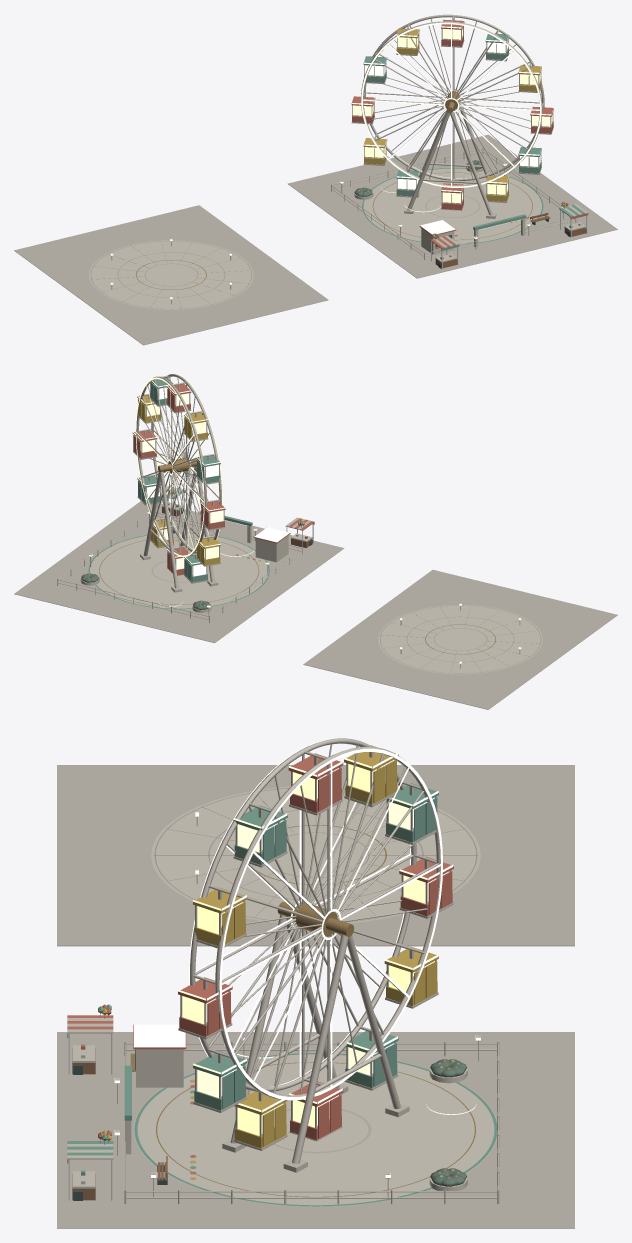
Rendered from world_landmarks.glb.
The picture shows the model from 3 angles, top to bottom: view 1: azimuth 30°, elevation 25°; view 2: azimuth 150°, elevation 25°; view 3: azimuth 270°, elevation 25°; orthographic projection. The views are drawn at different scales.
Parts seen in each view (by area): view 1: Plaza_c2_2, Amusement_c3_2, FerrisRotor, FerrisSupports, BalloonCarts_c3_2, FerrisCabin_11, FerrisCabin_10, FerrisCabin_07, FerrisCabin_04, FerrisCabin_00, FerrisCabin_06, FerrisCabin_09 (+5 smaller); view 2: Plaza_c2_2, Amusement_c3_2, FerrisRotor, FerrisSupports, BalloonCarts_c3_2, FerrisCabin_07, FerrisCabin_06, FerrisCabin_05, FerrisCabin_00, FerrisCabin_04, FerrisCabin_03, FerrisCabin_08 (+1 smaller); view 3: Amusement_c3_2, Plaza_c2_2, FerrisRotor, FerrisSupports, BalloonCarts_c3_2, FerrisCabin_11, FerrisCabin_10, FerrisCabin_00, FerrisCabin_04, FerrisCabin_01, FerrisCabin_06, FerrisCabin_05 (+5 smaller).
Part boxes in pixels (x1=…): Plaza_c2_2: x1=14, y1=205, x2=328, y2=345; Amusement_c3_2: x1=288, y1=134, x2=617, y2=278; FerrisRotor: x1=361, y1=14, x2=544, y2=187; FerrisSupports: x1=404, y1=104, x2=496, y2=218; BalloonCarts_c3_2: x1=430, y1=204, x2=588, y2=269; FerrisCabin_11: x1=518, y1=147, x2=541, y2=174; FerrisCabin_10: x1=486, y1=175, x2=509, y2=202; FerrisCabin_07: x1=363, y1=138, x2=387, y2=165; FerrisCabin_04: x1=396, y1=28, x2=419, y2=55; FerrisCabin_00: x1=530, y1=106, x2=553, y2=134; FerrisCabin_06: x1=351, y1=96, x2=375, y2=124; FerrisCabin_09: x1=441, y1=183, x2=464, y2=210; Plaza_c2_2: x1=303, y1=570, x2=617, y2=709; Amusement_c3_2: x1=14, y1=501, x2=344, y2=642; FerrisRotor: x1=135, y1=374, x2=222, y2=557; FerrisSupports: x1=140, y1=466, x2=218, y2=592; BalloonCarts_c3_2: x1=157, y1=486, x2=314, y2=548; FerrisCabin_07: x1=196, y1=537, x2=220, y2=566; FerrisCabin_06: x1=201, y1=501, x2=225, y2=530; FerrisCabin_05: x1=196, y1=455, x2=220, y2=484; FerrisCabin_00: x1=132, y1=430, x2=157, y2=459; FerrisCabin_04: x1=184, y1=412, x2=208, y2=441; FerrisCabin_03: x1=167, y1=384, x2=191, y2=413; FerrisCabin_08: x1=184, y1=554, x2=208, y2=583; Amusement_c3_2: x1=57, y1=1024, x2=574, y2=1228; Plaza_c2_2: x1=57, y1=765, x2=574, y2=946; FerrisRotor: x1=189, y1=738, x2=442, y2=1100; FerrisSupports: x1=222, y1=914, x2=409, y2=1172; BalloonCarts_c3_2: x1=67, y1=1014, x2=113, y2=1200; FerrisCabin_11: x1=193, y1=1051, x2=247, y2=1112; FerrisCabin_10: x1=233, y1=1091, x2=287, y2=1150; FerrisCabin_00: x1=178, y1=977, x2=232, y2=1039; FerrisCabin_04: x1=344, y1=745, x2=398, y2=807; FerrisCabin_01: x1=193, y1=887, x2=247, y2=948; FerrisCabin_06: x1=399, y1=857, x2=453, y2=918; FerrisCabin_05: x1=385, y1=783, x2=438, y2=844.
Bounding box in the file's own units: 60.7 × 23.09 × 28.7.
